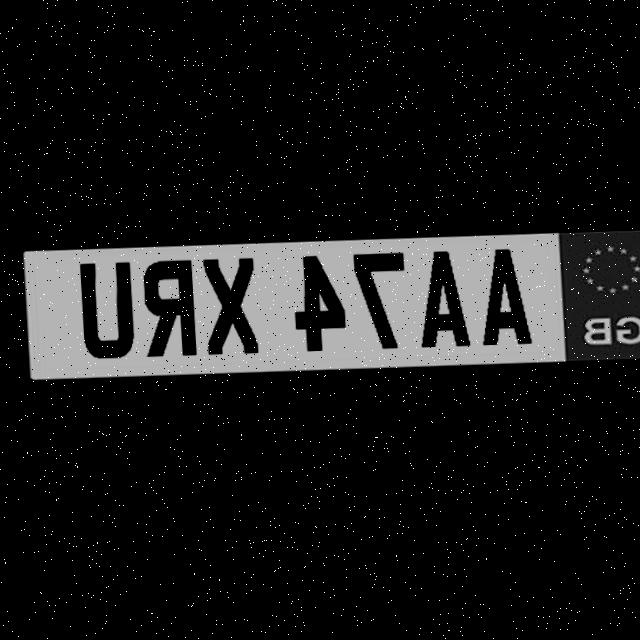license-plates: (20, 229, 640, 376)
